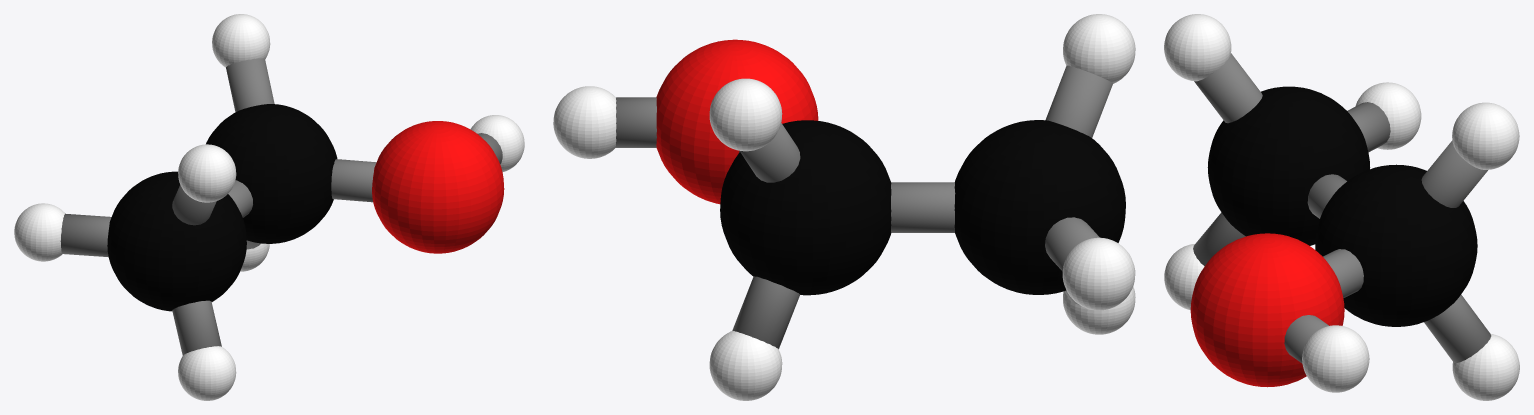
File: ETANOL.obj
The picture shows the model from 3 angles, left to right: view 1: azimuth 30°, elevation 25°; view 2: azimuth 150°, elevation 25°; view 3: azimuth 270°, elevation 25°; orthographic projection. The views are drawn at different scales.
Visible parts, largest first — view 1: Carbon_ball_Sphere, Oxygen_ball_Sphere.002, Hydrogen_ball_Sphere.001, Stick_Cylinder.001_Cylinder.001, Stick_Cylinder.002_Cylinder.002, Stick_Cylinder.004_Cylinder.004, Stick_Cylinder.006_Cylinder.006, Stick_Cylinder.003_Cylinder.003, Stick_Cylinder_Cylinder; view 2: Carbon_ball_Sphere, Hydrogen_ball_Sphere.001, Oxygen_ball_Sphere.002, Stick_Cylinder_Cylinder, Stick_Cylinder.005_Cylinder.005, Stick_Cylinder.003_Cylinder.003, Stick_Cylinder.007_Cylinder.007, Stick_Cylinder.004_Cylinder.004, Stick_Cylinder.001_Cylinder.001; view 3: Carbon_ball_Sphere, Hydrogen_ball_Sphere.001, Oxygen_ball_Sphere.002, Stick_Cylinder.003_Cylinder.003, Stick_Cylinder.005_Cylinder.005, Stick_Cylinder.004_Cylinder.004, Stick_Cylinder.001_Cylinder.001, Stick_Cylinder.002_Cylinder.002, Stick_Cylinder.006_Cylinder.006, Stick_Cylinder.007_Cylinder.007, Stick_Cylinder_Cylinder.
Boxes of the visible parts, <box> form: Carbon_ball_Sphere: <box>107,104,337,311</box>; Oxygen_ball_Sphere.002: <box>372,121,504,253</box>; Hydrogen_ball_Sphere.001: <box>14,14,524,400</box>; Stick_Cylinder.001_Cylinder.001: <box>60,213,111,256</box>; Stick_Cylinder.002_Cylinder.002: <box>172,300,221,355</box>; Stick_Cylinder.004_Cylinder.004: <box>226,58,274,112</box>; Stick_Cylinder.006_Cylinder.006: <box>331,159,376,202</box>; Stick_Cylinder.003_Cylinder.003: <box>172,185,216,225</box>; Stick_Cylinder_Cylinder: <box>228,180,252,217</box>; Carbon_ball_Sphere: <box>720,120,1125,295</box>; Hydrogen_ball_Sphere.001: <box>553,14,1135,400</box>; Oxygen_ball_Sphere.002: <box>656,39,818,204</box>; Stick_Cylinder_Cylinder: <box>891,182,955,232</box>; Stick_Cylinder.005_Cylinder.005: <box>732,276,800,348</box>; Stick_Cylinder.003_Cylinder.003: <box>1045,65,1113,137</box>; Stick_Cylinder.007_Cylinder.007: <box>616,97,656,147</box>; Stick_Cylinder.004_Cylinder.004: <box>739,123,800,182</box>; Stick_Cylinder.001_Cylinder.001: <box>1045,217,1099,271</box>; Carbon_ball_Sphere: <box>1207,86,1477,326</box>; Hydrogen_ball_Sphere.001: <box>1164,14,1519,400</box>; Oxygen_ball_Sphere.002: <box>1190,233,1344,387</box>; Stick_Cylinder.003_Cylinder.003: <box>1194,53,1262,123</box>; Stick_Cylinder.005_Cylinder.005: <box>1424,294,1491,363</box>; Stick_Cylinder.004_Cylinder.004: <box>1421,140,1487,207</box>; Stick_Cylinder.001_Cylinder.001: <box>1347,102,1390,152</box>; Stick_Cylinder.002_Cylinder.002: <box>1193,212,1245,266</box>; Stick_Cylinder.006_Cylinder.006: <box>1323,249,1363,298</box>; Stick_Cylinder.007_Cylinder.007: <box>1284,315,1328,363</box>; Stick_Cylinder_Cylinder: <box>1307,174,1346,218</box>.
Size of the model in its own units: 5.48 by 2.75 by 3.04.
